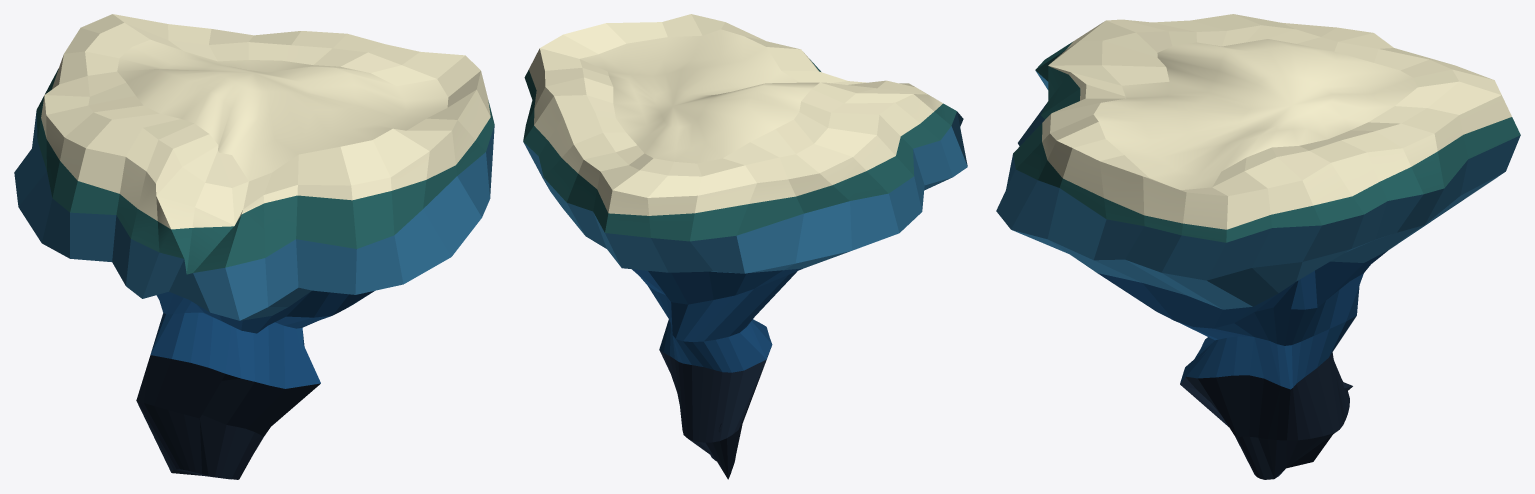
File: rock019.FBX
3 views of the same model, side by side, from view 1: azimuth 30°, elevation 25°; view 2: azimuth 150°, elevation 25°; view 3: azimuth 270°, elevation 25° (orthographic). The views are drawn at different scales.
Parts seen in each view (by area): view 1: rock_019; view 2: rock_019; view 3: rock_019.
Boxes of the visible parts, x1,y1,x2,y2 form: rock_019: (14, 14, 494, 479); rock_019: (523, 14, 967, 479); rock_019: (996, 14, 1520, 479).
Size of the model in its own units: 10.75 by 9.79 by 11.31.
